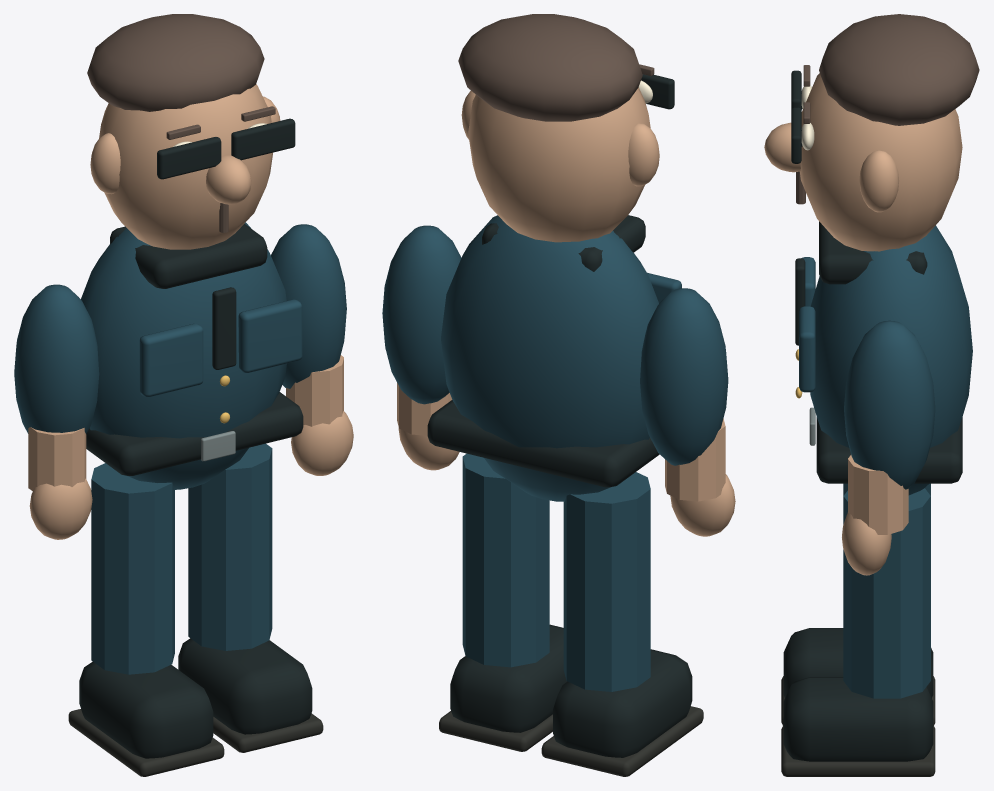
File: oleg.glb
3 renders of one model, left to right at view 1: azimuth 30°, elevation 25°; view 2: azimuth 150°, elevation 25°; view 3: azimuth 270°, elevation 25°, orthographic. The views are drawn at different scales.
Visible parts, largest first — view 1: Jacket, Trousers, Face, Trousers.001, Hair cap, Sleeve, Shoe, Shoe.001, Sleeve.001, Belt, Collar, Shirt pocket (+13 smaller); view 2: Jacket, Face, Trousers, Trousers.001, Hair cap, Sleeve, Sleeve.001, Shoe, Shoe.001, Belt, Shoe sole, Forearm (+7 smaller); view 3: Jacket, Face, Hair cap, Trousers.001, Sleeve.001, Shoe.001, Forearm.001, Belt, Shoe, Shoe sole.001, Collar, Hand.001 (+7 smaller).
Boxes of the visible parts, x1,y1,x2,y2 form: Jacket: (81, 222, 286, 489); Trousers: (91, 463, 174, 674); Face: (99, 84, 272, 249); Trousers.001: (188, 443, 272, 650); Hair cap: (87, 14, 264, 111); Sleeve: (14, 284, 99, 433); Shoe: (79, 661, 213, 758); Shoe.001: (178, 638, 312, 734); Sleeve.001: (271, 224, 346, 388); Belt: (86, 392, 303, 475); Collar: (110, 224, 267, 288); Shirt pocket: (139, 323, 203, 396); Jacket: (441, 215, 658, 501); Face: (468, 87, 650, 242); Trousers: (563, 472, 650, 691); Trousers.001: (462, 453, 549, 667); Hair cap: (458, 14, 642, 121); Sleeve: (640, 288, 728, 465); Sleeve.001: (382, 225, 461, 404); Shoe: (553, 649, 692, 757); Shoe.001: (450, 624, 567, 732); Belt: (427, 400, 659, 487); Shoe sole: (541, 706, 703, 776); Forearm: (665, 418, 725, 501); Jacket: (810, 225, 972, 495); Face: (799, 73, 962, 251); Hair cap: (819, 14, 979, 125); Trousers.001: (843, 488, 930, 698); Sleeve.001: (844, 320, 935, 489); Shoe.001: (783, 677, 933, 761); Forearm.001: (848, 455, 908, 534); Belt: (816, 417, 962, 483); Shoe: (783, 628, 933, 697); Shoe sole.001: (781, 725, 935, 776); Collar: (819, 221, 927, 284); Hand.001: (842, 512, 891, 575).
Bounding box in the file's own units: 0.91 × 1.87 × 0.517.
